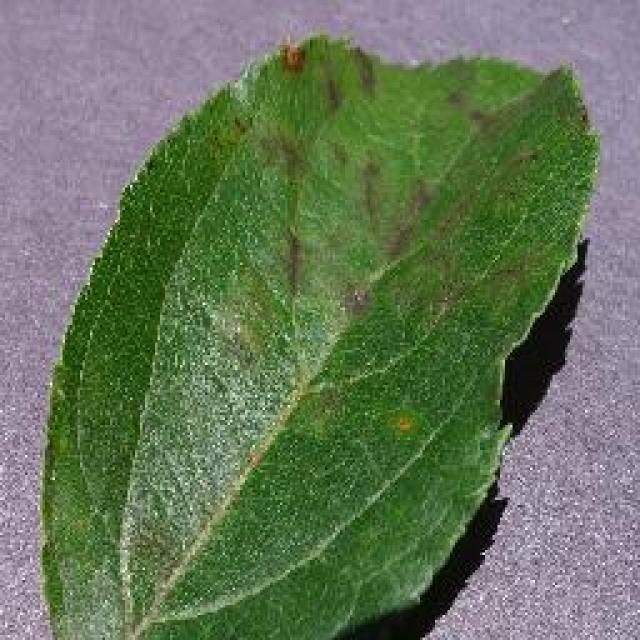apple scab disease: (35, 30, 600, 638)
